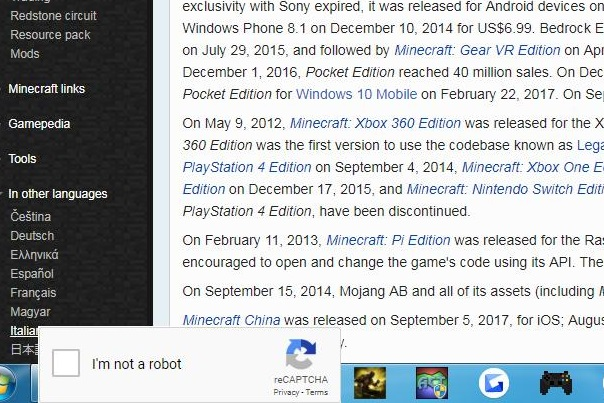captcha: (52, 349, 182, 377)
